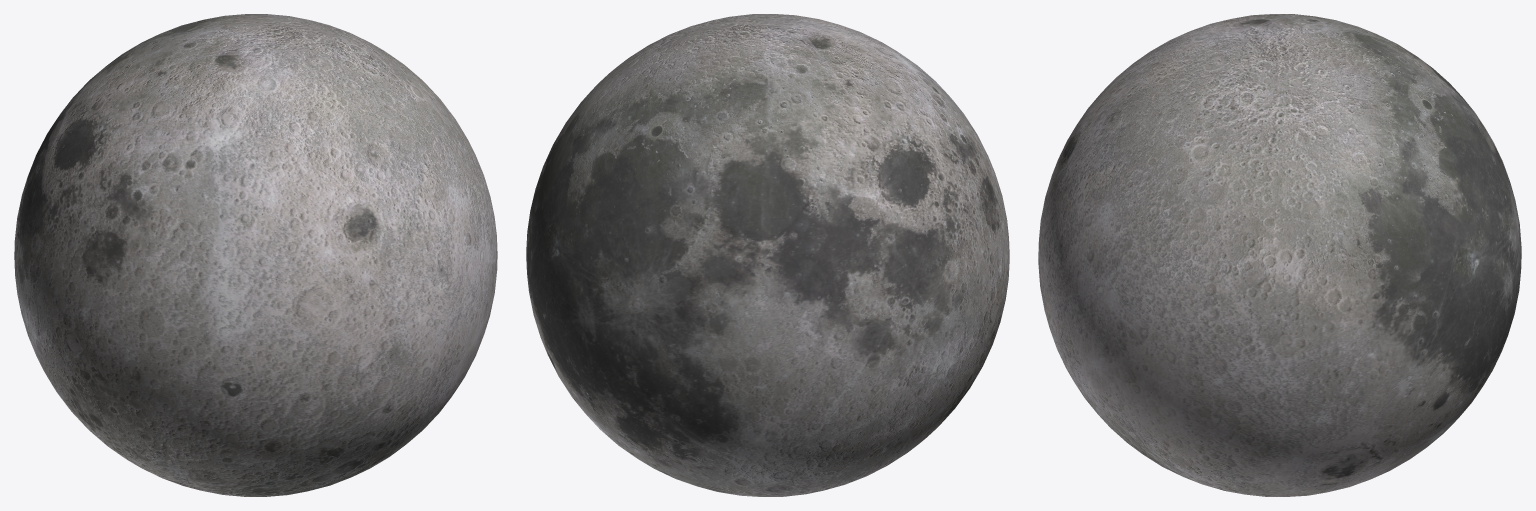
The model's file is moon.glb.
3 views of the same model, side by side, from view 1: azimuth 30°, elevation 25°; view 2: azimuth 150°, elevation 25°; view 3: azimuth 270°, elevation 25° (orthographic).
Parts seen in each view (by area): view 1: moon; view 2: moon; view 3: moon.
Part boxes in pixels (x1,y1,x2,y2): moon: (14, 14, 497, 496); moon: (526, 14, 1009, 496); moon: (1038, 14, 1521, 496).
Size of the model in its own units: 99.93 by 99.94 by 99.92.
1 material, 1 textured.
